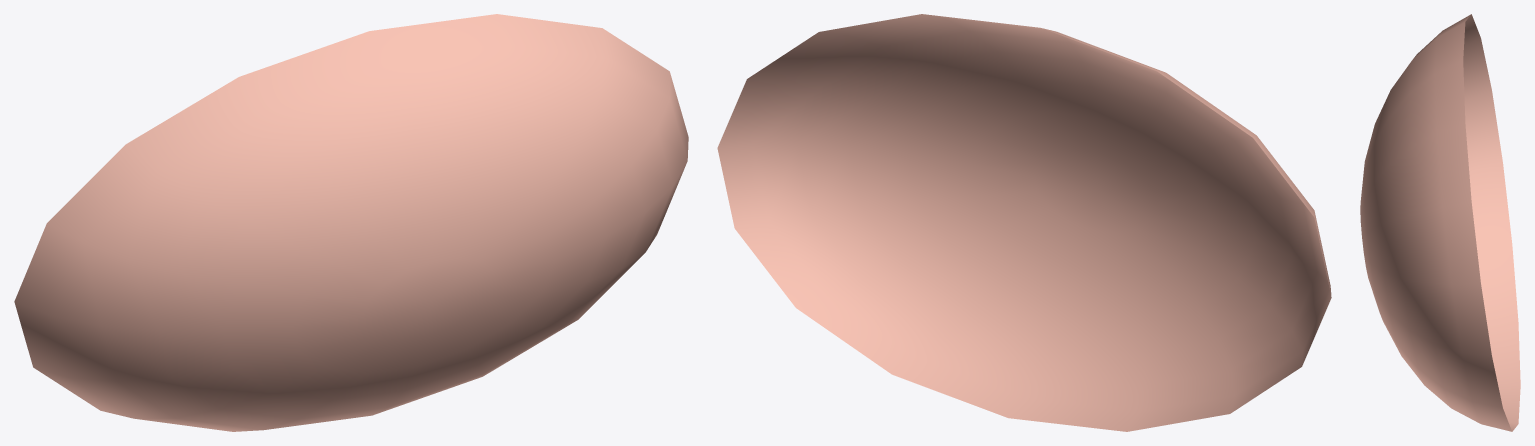
Rendered from Nose B 1.glb.
3 views of the same model, side by side, from view 1: azimuth 30°, elevation 25°; view 2: azimuth 150°, elevation 25°; view 3: azimuth 270°, elevation 25° (orthographic). The views are drawn at different scales.
Parts seen in each view (by area): view 1: nose_b_1; view 2: nose_b_1; view 3: nose_b_1.
Boxes of the visible parts, x1,y1,x2,y2 form: nose_b_1: [14, 14, 688, 431]; nose_b_1: [717, 14, 1331, 431]; nose_b_1: [1360, 14, 1520, 431].
Size of the model in its own units: 0.000814 by 0.000465 by 0.000208.
